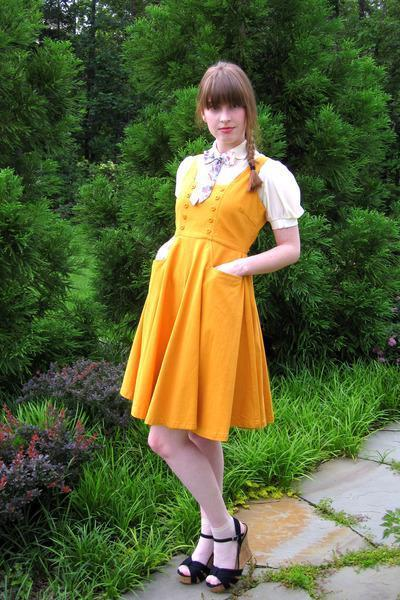dress: (120, 158, 273, 443)
shirt: (182, 142, 303, 227)
shoe: (180, 552, 251, 599)
